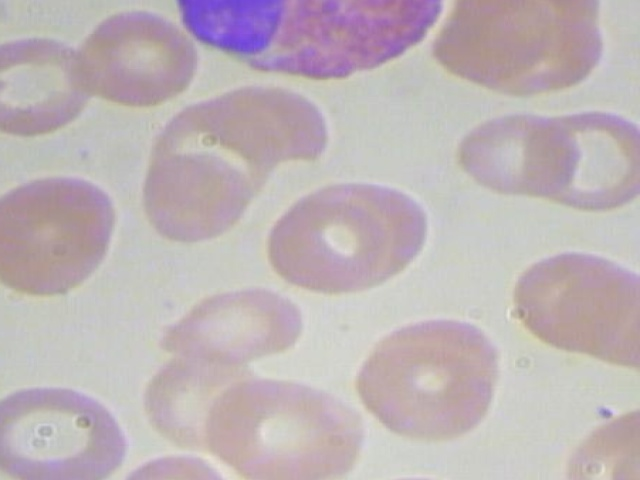RBC: (257, 176, 443, 305), (346, 327, 497, 445), (0, 169, 125, 306), (148, 271, 314, 371), (65, 3, 201, 110), (448, 103, 584, 210), (0, 382, 138, 480), (0, 34, 117, 146)
WBC: (157, 0, 463, 99)
